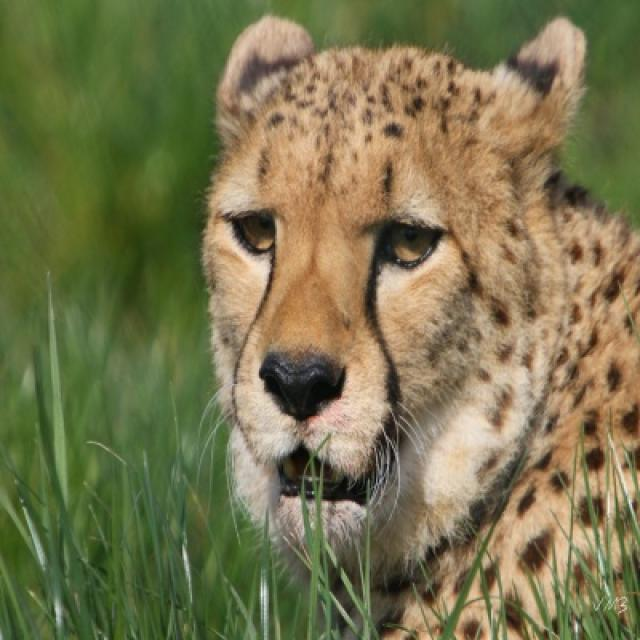Cheetah: (203, 16, 638, 637)
